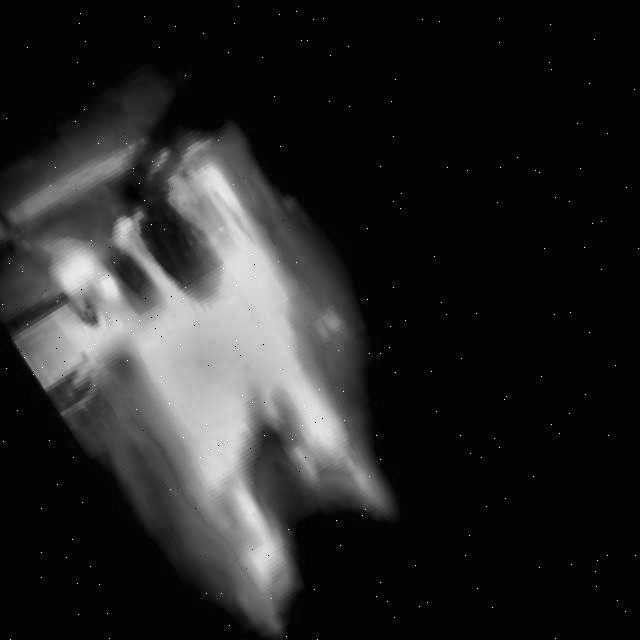Fire: (28, 148, 467, 638)
